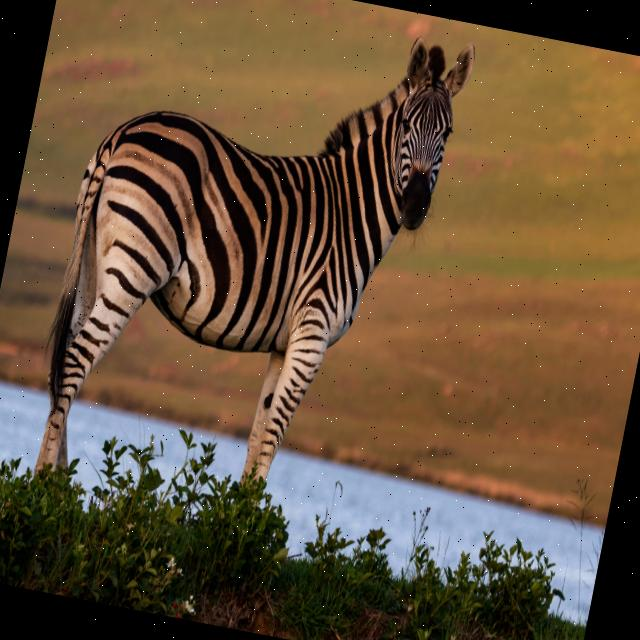Zebra: (21, 0, 478, 548)
